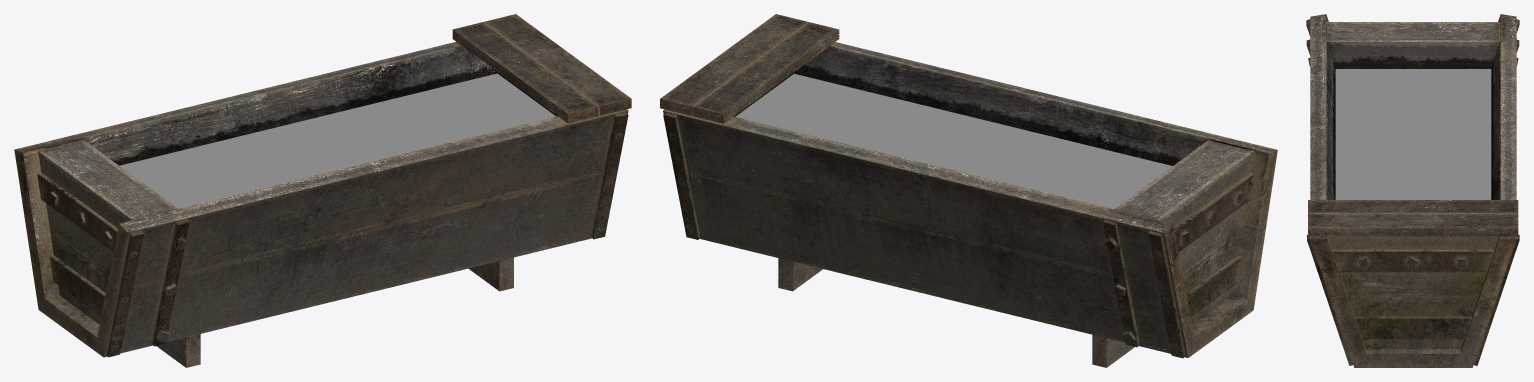
Rendered from WaterTrough.FBX.
The picture shows the model from 3 angles, left to right: view 1: azimuth 30°, elevation 25°; view 2: azimuth 150°, elevation 25°; view 3: azimuth 270°, elevation 25°; orthographic projection. The views are drawn at different scales.
Parts seen in each view (by area): view 1: WaterTrough, Water; view 2: WaterTrough, Water; view 3: WaterTrough, Water.
Boxes of the visible parts, x1,y1,x2,y2 form: WaterTrough: (14, 14, 631, 367); Water: (119, 73, 555, 208); WaterTrough: (660, 14, 1277, 367); Water: (735, 73, 1172, 209); WaterTrough: (1306, 14, 1519, 367); Water: (1335, 69, 1491, 199).
Bounding box in the file's own units: 147 × 52.78 × 59.46.
